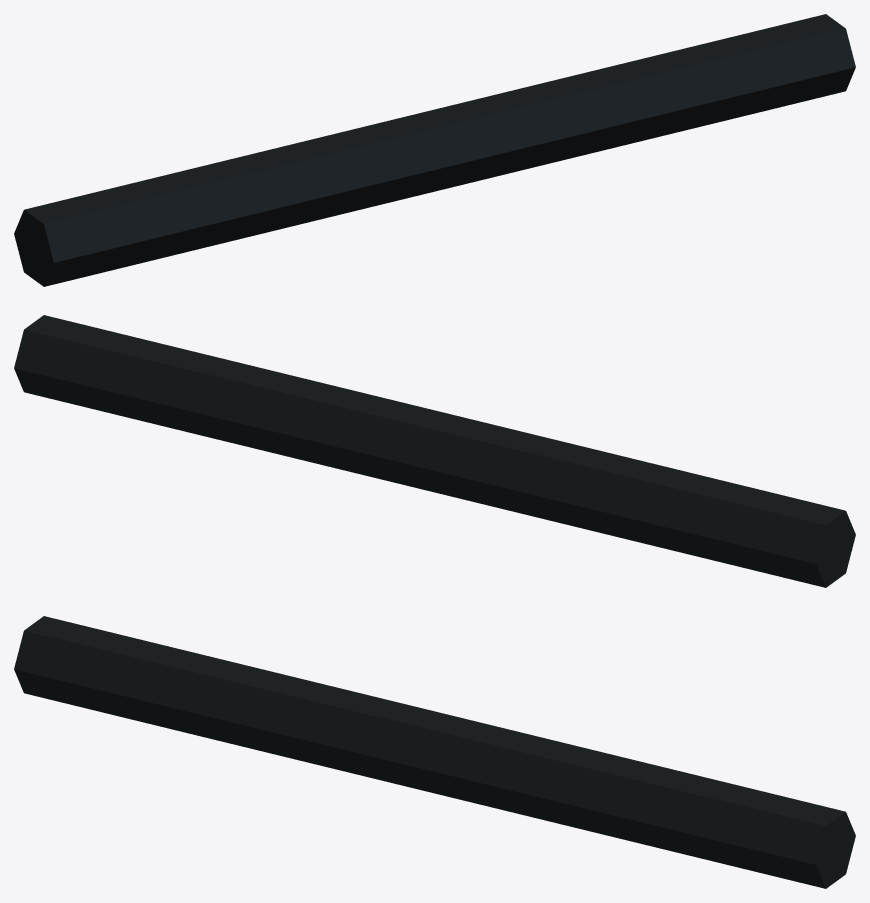
The model's file is prop32.FBX.
3 renders of one model, top to bottom at view 1: azimuth 30°, elevation 25°; view 2: azimuth 150°, elevation 25°; view 3: azimuth 330°, elevation 25°, orthographic.
Visible parts, largest first — view 1: prop32; view 2: prop32; view 3: prop32.
Boxes of the visible parts, left/top/right/bottom form: prop32: left=14, top=14, right=855, bottom=286; prop32: left=14, top=315, right=855, bottom=587; prop32: left=14, top=616, right=855, bottom=888.
Bounding box in the file's own units: 20.76 × 1.55 × 1.79.
